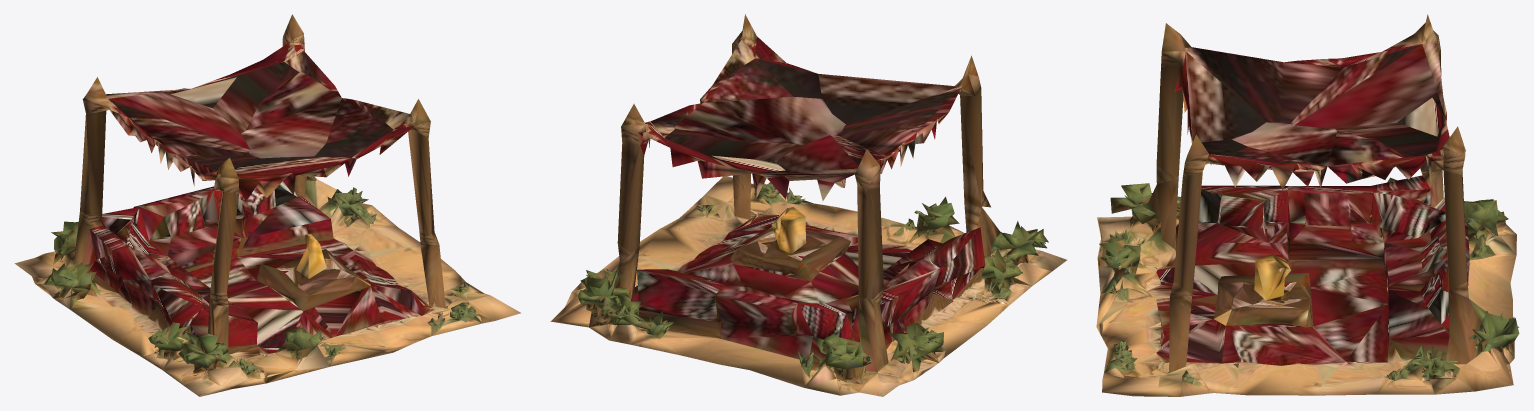
File: majlis.glb
3 renders of one model, left to right at view 1: azimuth 30°, elevation 25°; view 2: azimuth 150°, elevation 25°; view 3: azimuth 270°, elevation 25°, orthographic. The views are drawn at different scales.
Visible parts, largest first — view 1: majlis; view 2: majlis; view 3: majlis.
Part boxes in pixels (bbox=[...]): majlis: bbox=[14, 14, 520, 396]; majlis: bbox=[550, 14, 1066, 396]; majlis: bbox=[1096, 14, 1519, 396].
Bounding box in the file's own units: 1.85 × 1.11 × 1.78.
Materials: 1 (1 with a texture image).
